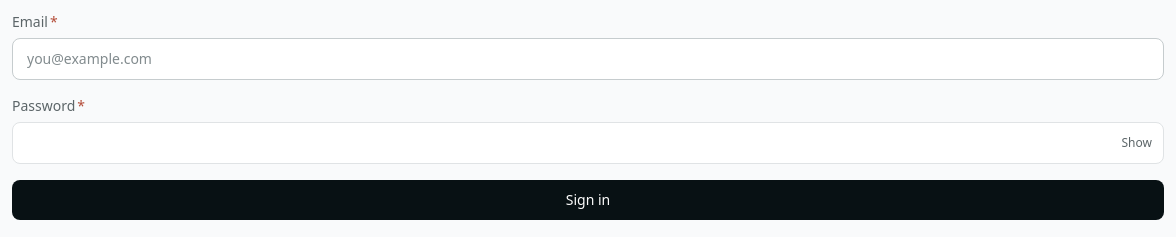
Test case: LoginForm › reveals and re-hides the password on demand
The image size is (1176, 237).
Type "secret123" into the password field labelled "Password*" at [588, 143], box [12,122,1164,164]
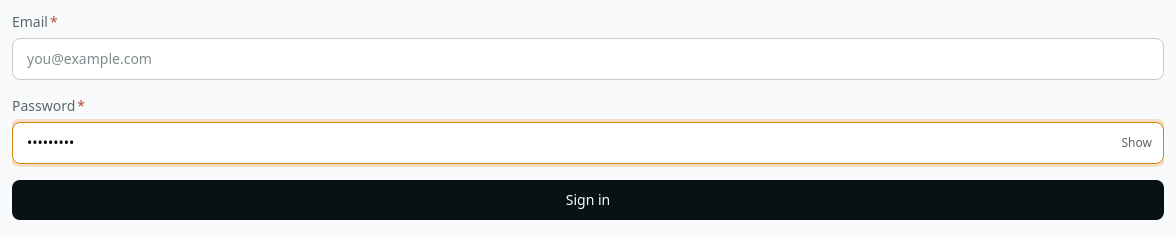
Click the button "Show" at [1137, 143], box [1110,122,1164,164]
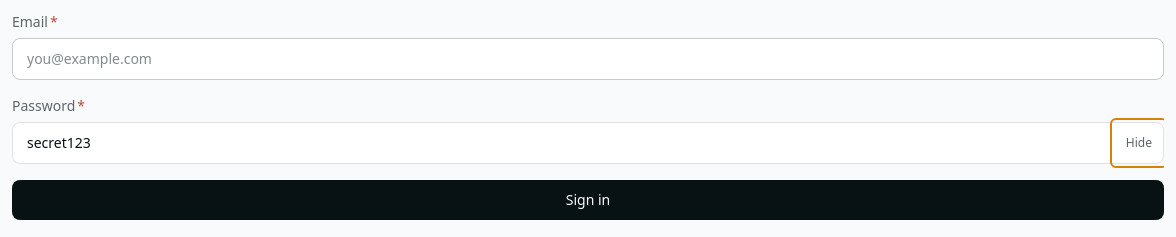
Check: the field labelled "Password*" shows its text, box [12,122,1164,164]
Click the button "Hide" at [1139, 143], box [1114,122,1164,164]
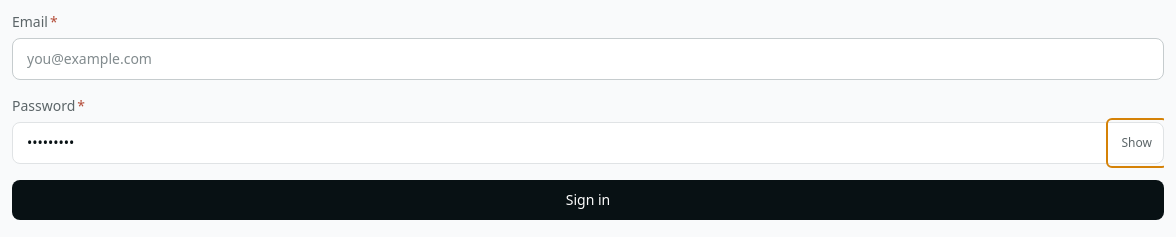
Check: the password field labelled "Password*" hides its text, box [12,122,1164,164]
